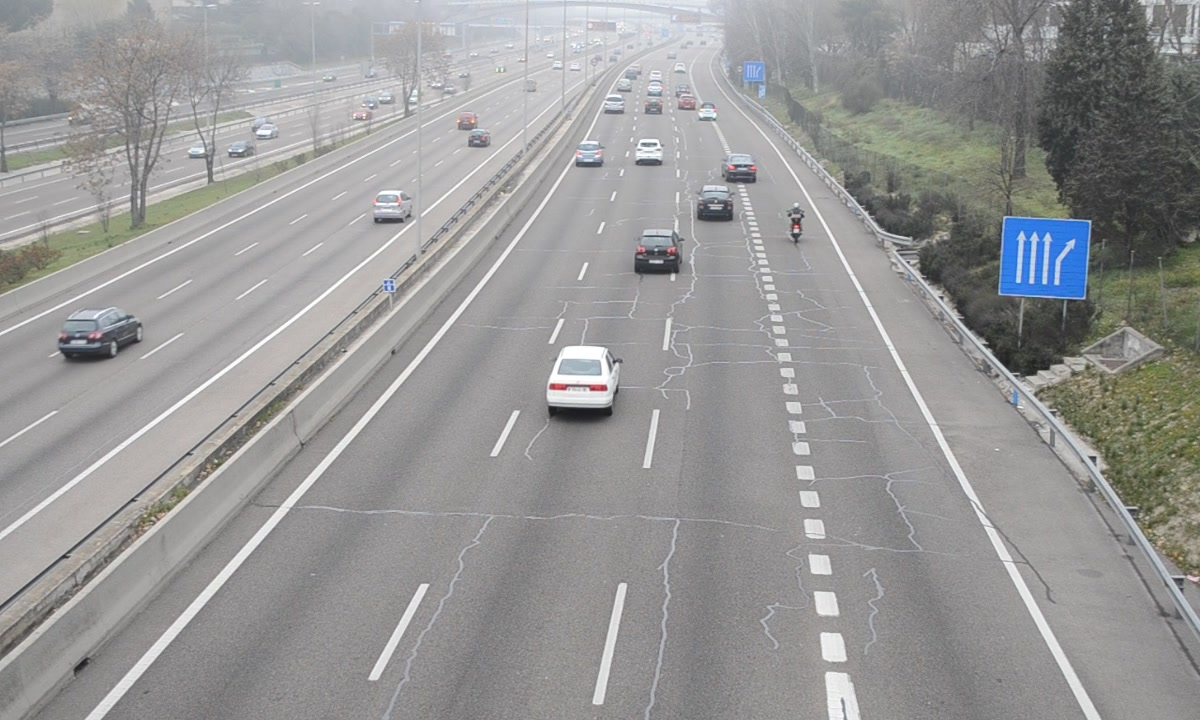car: (548, 345, 622, 410), (636, 229, 678, 271), (696, 184, 733, 220), (723, 153, 757, 184), (635, 138, 666, 164), (575, 140, 604, 167), (603, 92, 625, 115)
motorcycle: (788, 203, 807, 246)
